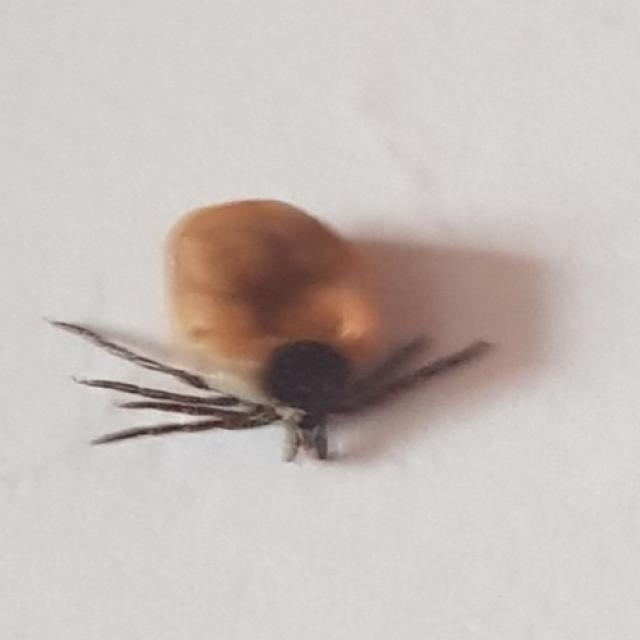Ixodes Ricinus-F-Fed: (49, 200, 492, 463)
